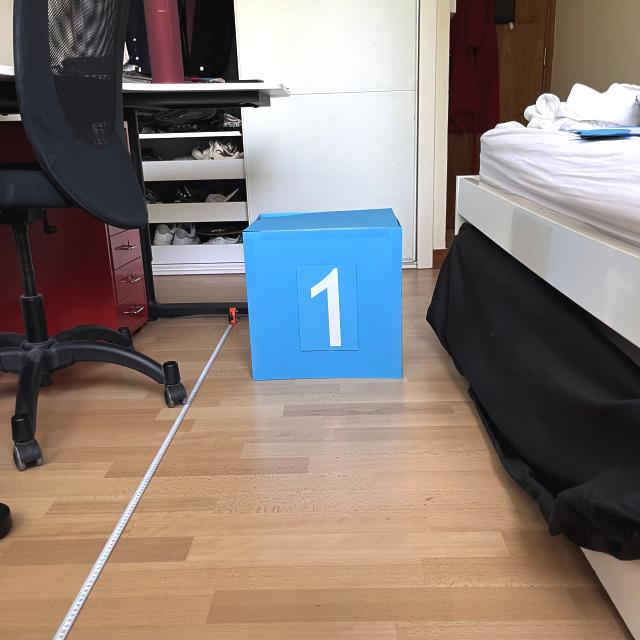box: (238, 203, 407, 383)
